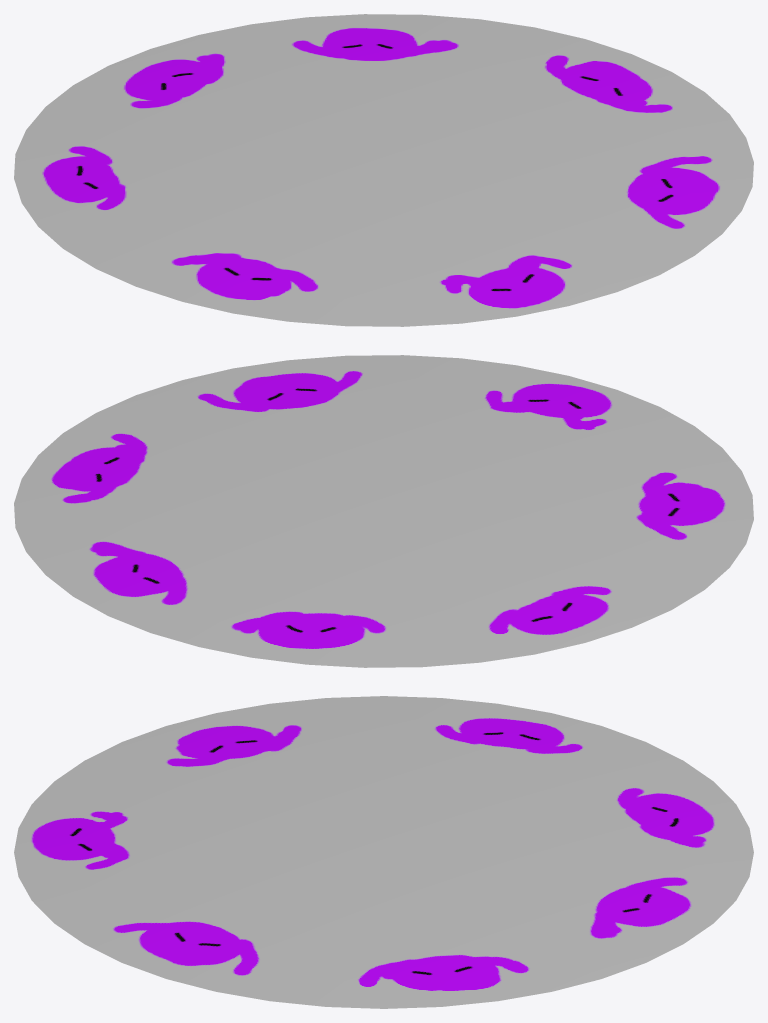
File: BossSpawnMark.gltf
The picture shows the model from 3 angles, top to bottom: view 1: azimuth 30°, elevation 25°; view 2: azimuth 150°, elevation 25°; view 3: azimuth 270°, elevation 25°; orthographic projection.
Parts seen in each view (by area): view 1: BossSpawnMark; view 2: BossSpawnMark; view 3: BossSpawnMark.
Boxes of the visible parts, x1,y1,x2,y2 form: BossSpawnMark: (14, 14, 753, 326); BossSpawnMark: (14, 355, 753, 667); BossSpawnMark: (14, 696, 753, 1008).
Size of the model in its own units: 5.81 by 0.0643 by 5.81.
Materials: 1 (1 with a texture image).
